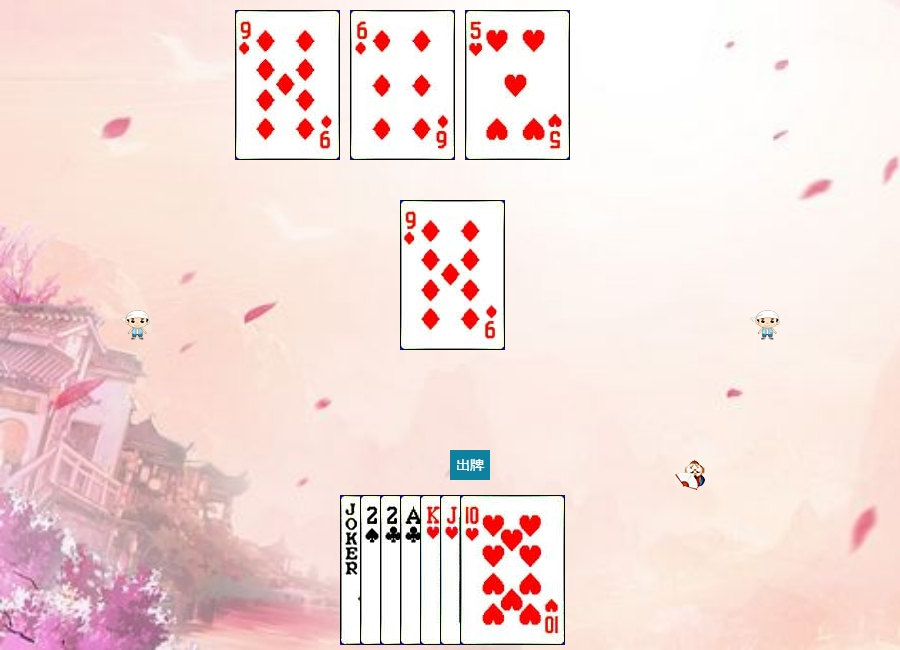10~3: (460, 495, 565, 645)
11~3: (440, 495, 545, 645)
13~3: (420, 495, 525, 645)
14~2: (400, 495, 505, 645)
15~2: (380, 495, 485, 645)
15~4: (360, 495, 465, 645)
17~3: (340, 495, 445, 645)
5~3: (465, 10, 570, 160)
6~1: (350, 10, 455, 160)
9~1: (235, 10, 340, 160), (400, 200, 505, 350)
